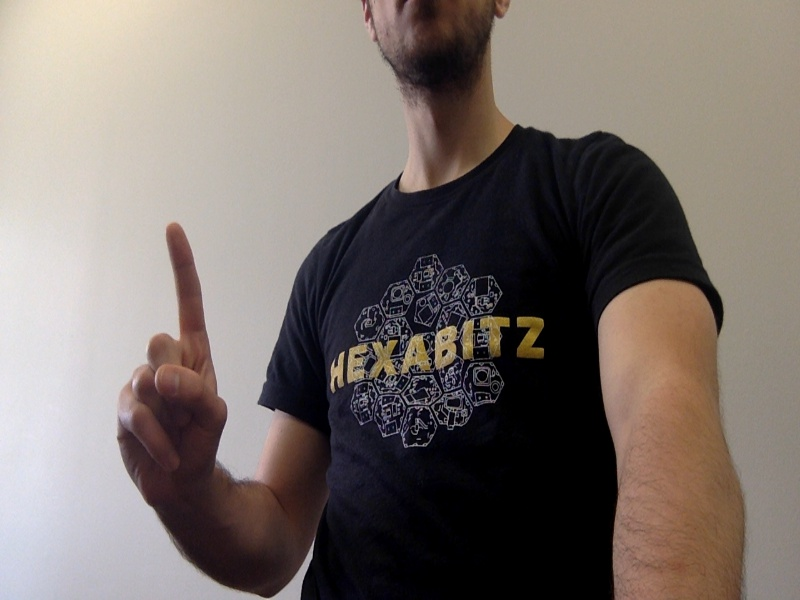1-hand: (110, 220, 230, 481)
